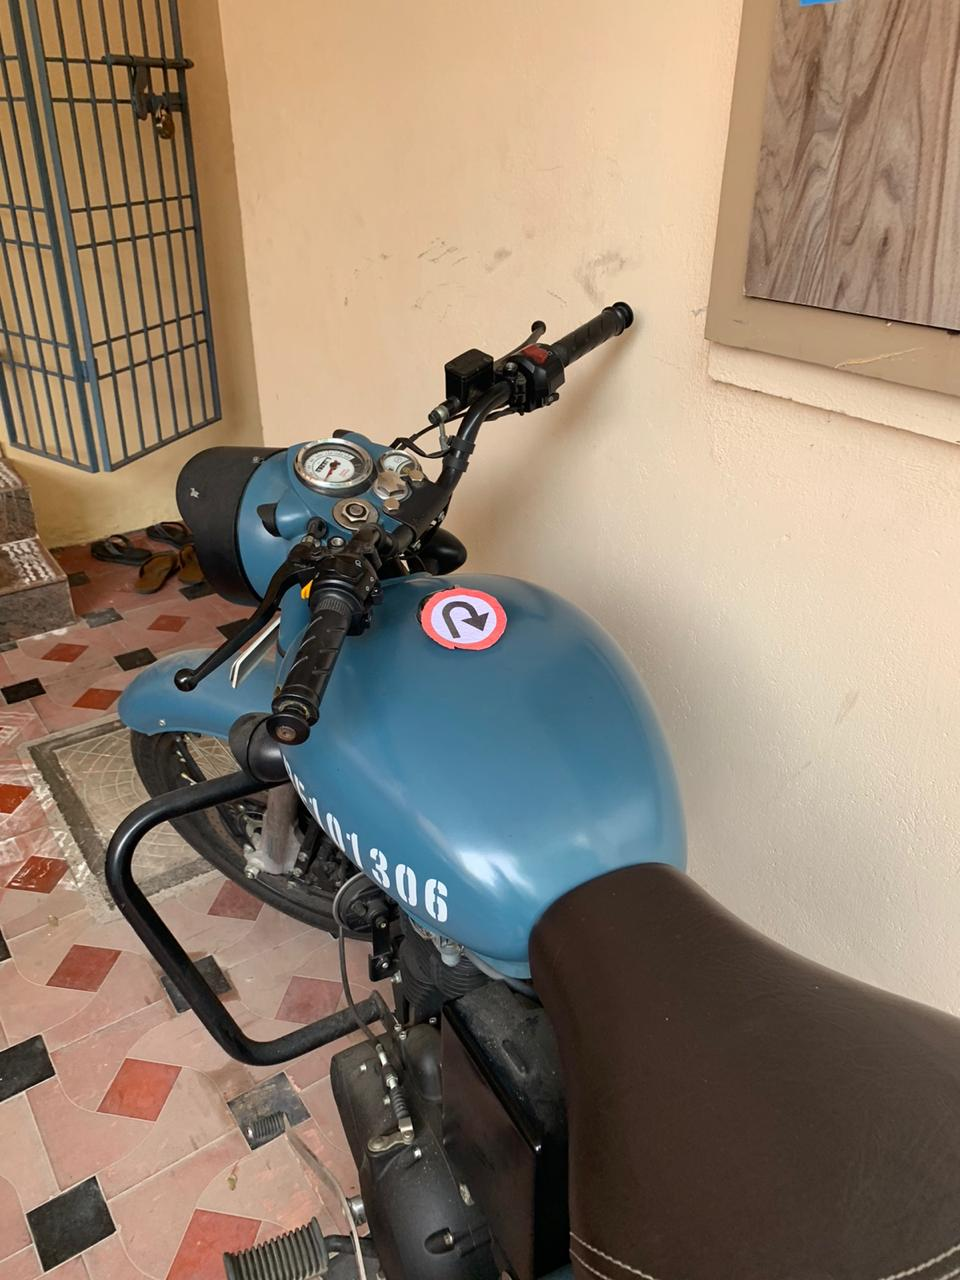U-TURN: (410, 554, 538, 652)
